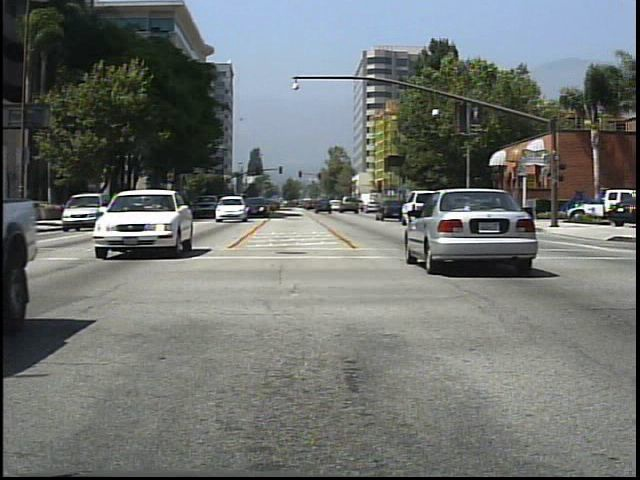person: (492, 192, 511, 229), (452, 193, 470, 228)
